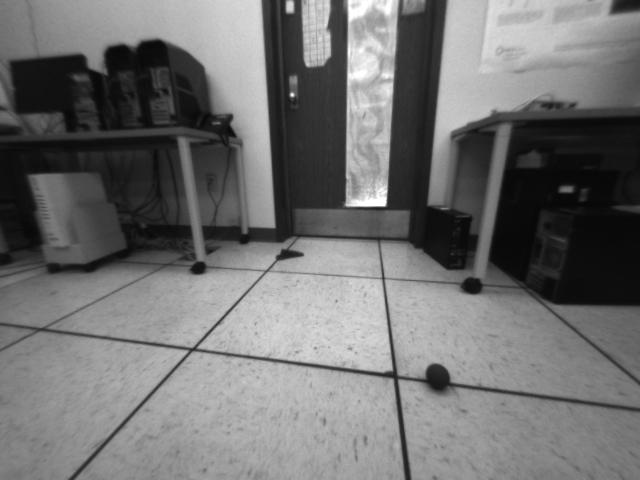dogtoy: (421, 357, 458, 397)
